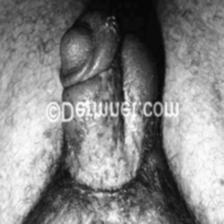Toxin: (97, 54, 128, 94), (74, 124, 102, 146), (41, 128, 55, 148)
